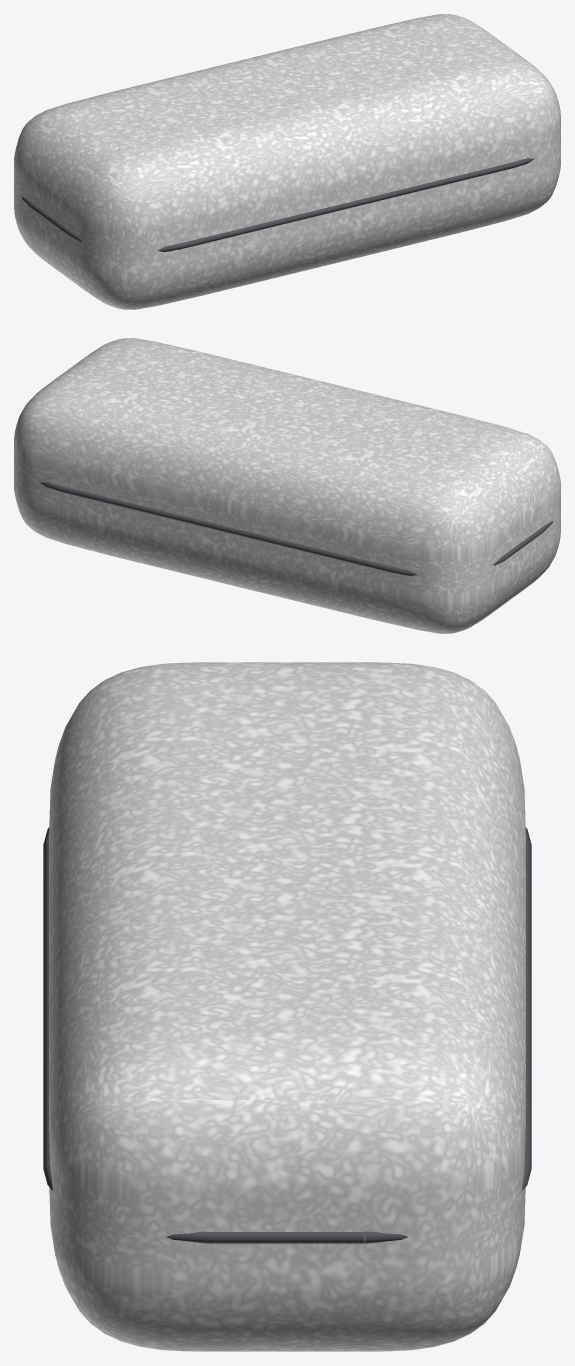
The model's file is glasses_case.glb.
3 views of the same model, one above another, from view 1: azimuth 30°, elevation 25°; view 2: azimuth 150°, elevation 25°; view 3: azimuth 270°, elevation 25° (orthographic). The views are drawn at different scales.
Parts seen in each view (by area): view 1: gcase_shell, gcase_seam; view 2: gcase_shell, gcase_seam; view 3: gcase_shell, gcase_seam.
Boxes of the visible parts, x1,y1,x2,y2 form: gcase_shell: [14, 14, 560, 309]; gcase_seam: [21, 158, 534, 251]; gcase_shell: [14, 338, 560, 633]; gcase_seam: [40, 482, 553, 575]; gcase_shell: [49, 662, 525, 1351]; gcase_seam: [43, 827, 531, 1243].
Bounding box in the file's own units: 16.16 × 5 × 7.16.
Materials: 3 (1 with a texture image).
